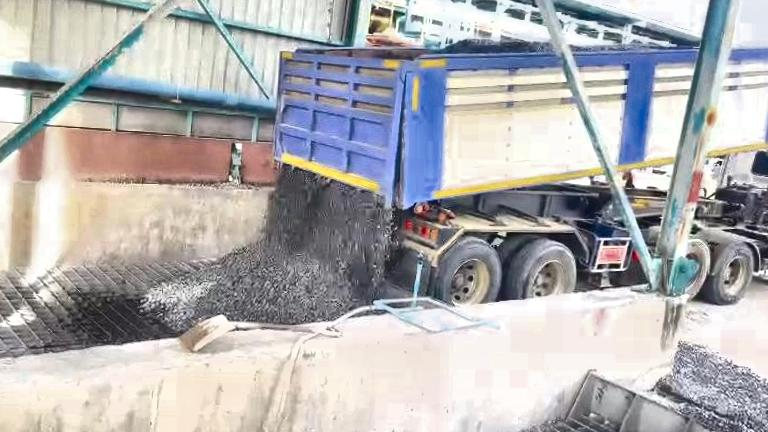gravel: (142, 167, 397, 330), (667, 343, 768, 432), (434, 38, 551, 54)
